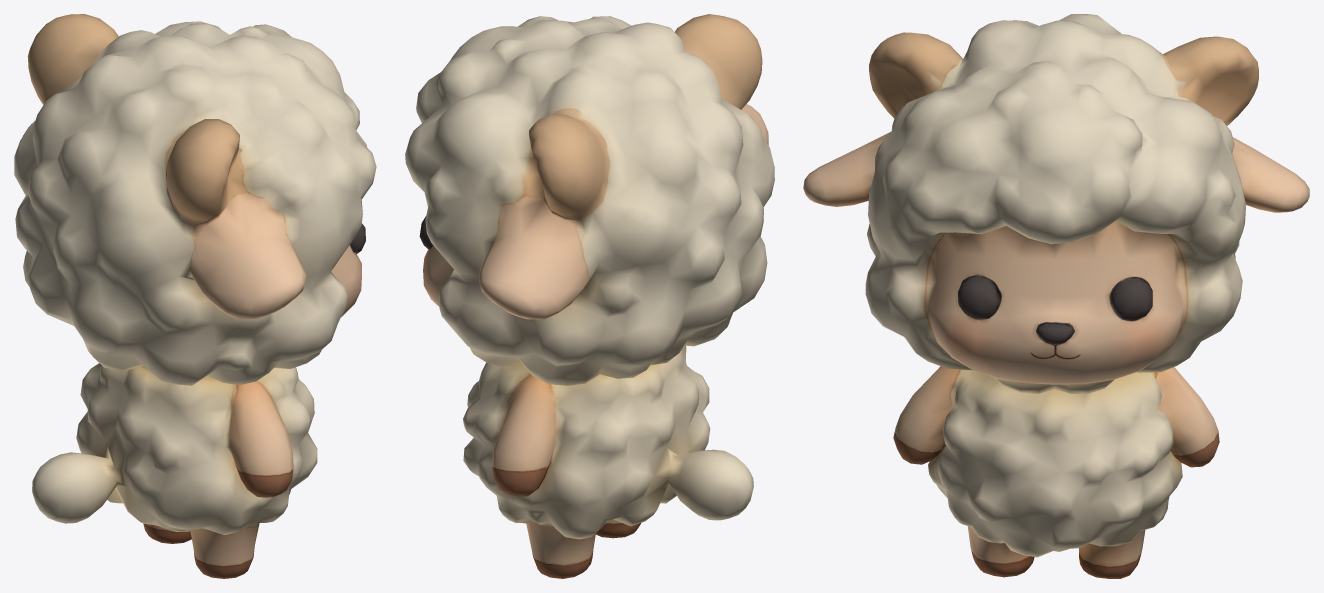
The model's file is sheep.glb.
3 views of the same model, side by side, from view 1: azimuth 30°, elevation 25°; view 2: azimuth 150°, elevation 25°; view 3: azimuth 270°, elevation 25° (orthographic). The views are drawn at different scales.
Visible parts, largest first — view 1: tripo_node_45ad54fb-c5ad-4d6a-b984-4d4045e7b7fd; view 2: tripo_node_45ad54fb-c5ad-4d6a-b984-4d4045e7b7fd; view 3: tripo_node_45ad54fb-c5ad-4d6a-b984-4d4045e7b7fd.
Boxes of the visible parts, x1=… form: tripo_node_45ad54fb-c5ad-4d6a-b984-4d4045e7b7fd: x1=14, y1=14, x2=376, y2=578; tripo_node_45ad54fb-c5ad-4d6a-b984-4d4045e7b7fd: x1=405, y1=14, x2=774, y2=578; tripo_node_45ad54fb-c5ad-4d6a-b984-4d4045e7b7fd: x1=803, y1=14, x2=1309, y2=578.
Size of the model in its own units: 0.6348 by 0.998 by 0.8574.
Materials: 1 (1 with a texture image).
